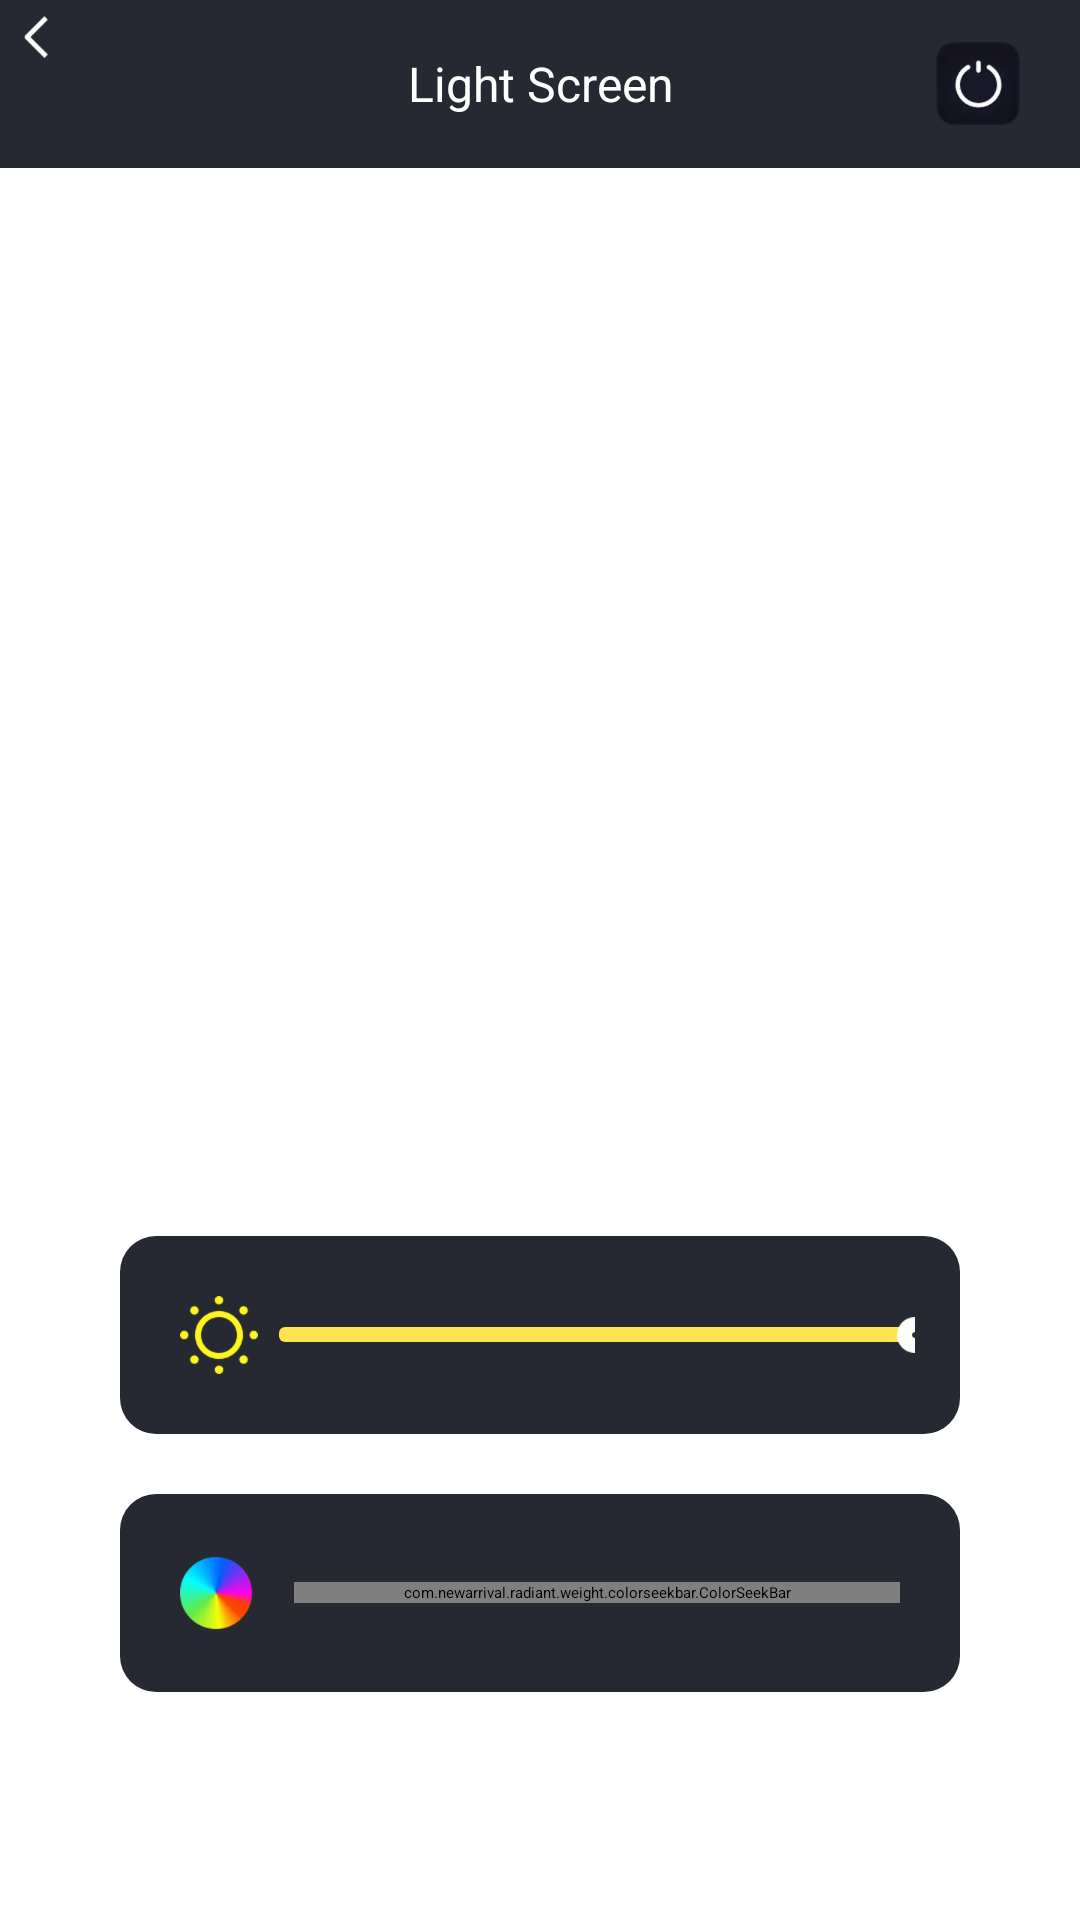

Screen size 1080px x 1920px. Icon name, then its center in pixels as [x,y]:
screen off: [978,84]
